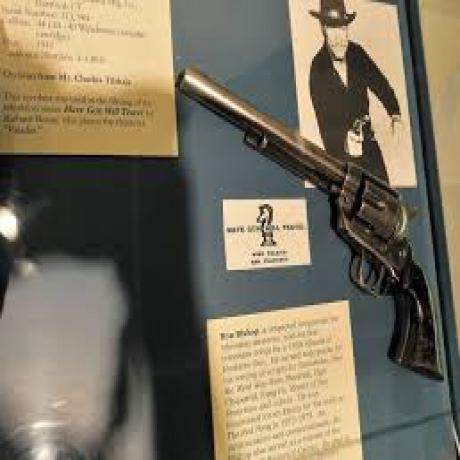Guns: (182, 56, 444, 380)
